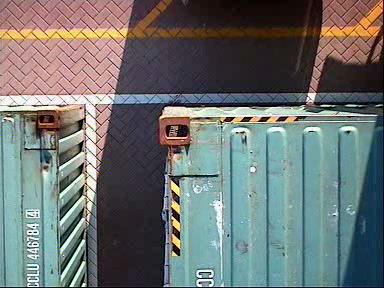groundmarker_2: (160, 117, 239, 238)
